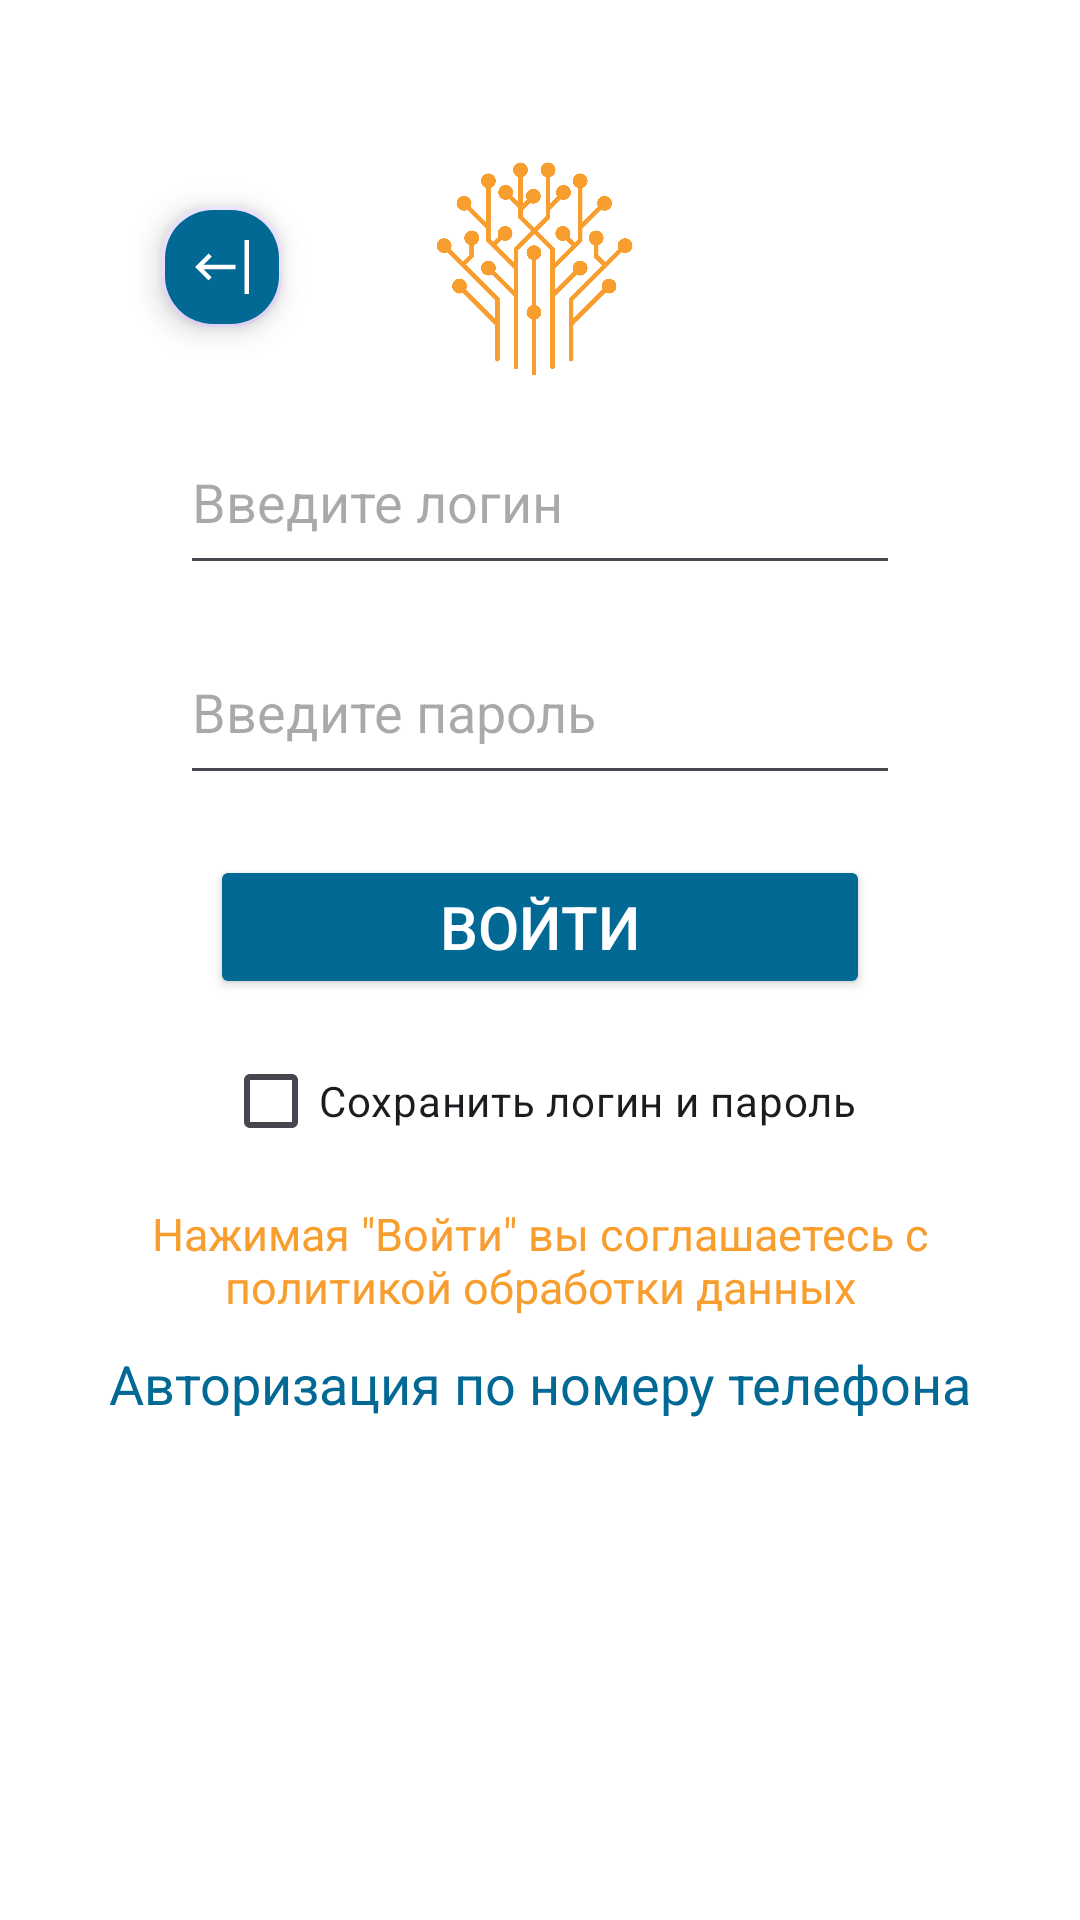

Screen size 1080 x 1920. Icon name, then its box in pixels as (x1,y1,x2,y2):
FAB for back to prev activity: (161,207,282,328)
